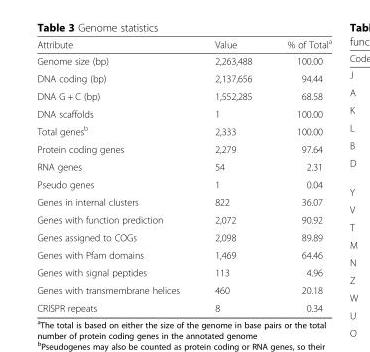table: (36, 36, 331, 313)
table column: (36, 36, 196, 313), (196, 36, 269, 313), (269, 36, 331, 313)
table column header: (36, 36, 331, 52)
table row: (36, 121, 331, 140), (36, 69, 331, 87), (36, 157, 331, 175), (36, 192, 331, 210), (36, 210, 331, 228), (36, 245, 331, 263), (36, 263, 331, 281), (36, 52, 331, 69), (36, 87, 331, 104), (36, 104, 331, 121), (36, 140, 331, 157), (36, 175, 331, 192), (36, 228, 331, 245), (36, 281, 331, 298), (36, 36, 331, 52), (36, 298, 331, 313)
